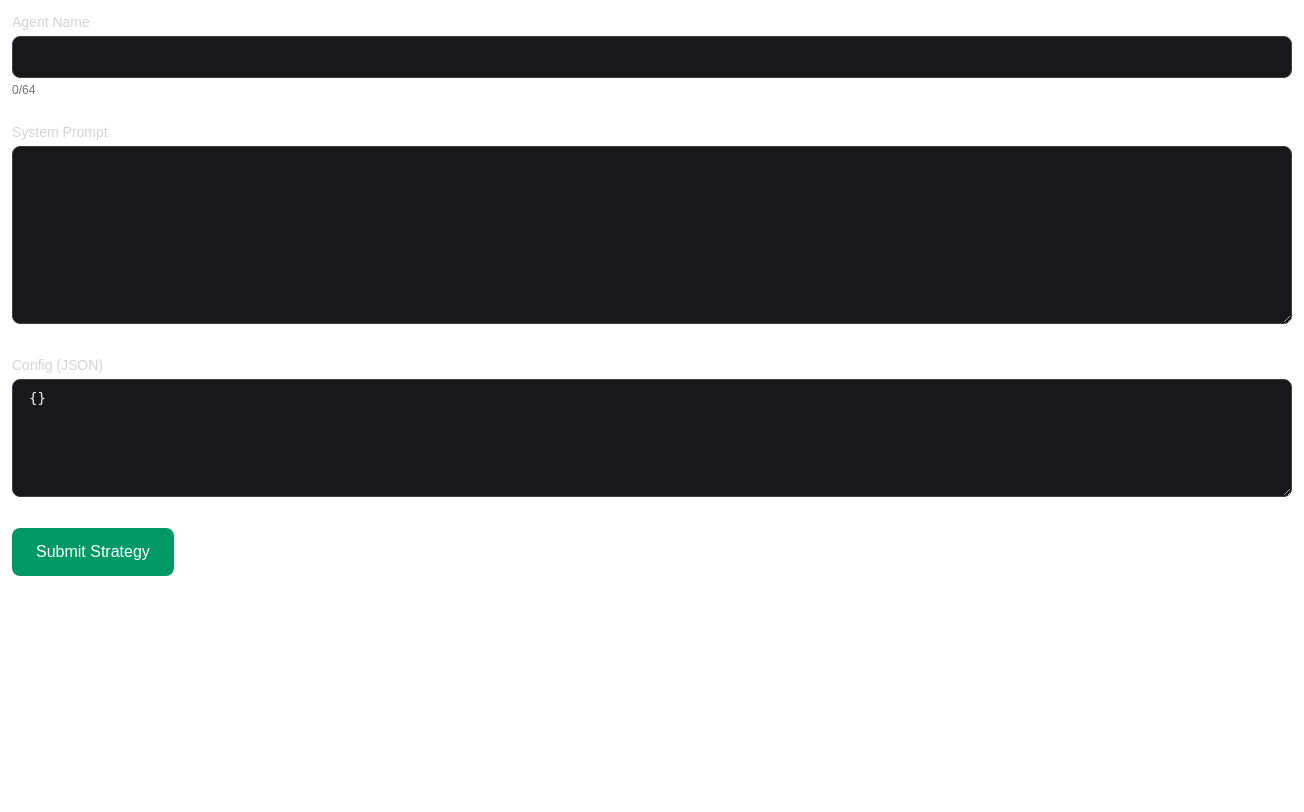
it: SubmitForm › shows error when getAccessToken returns null
Type "TestBot" into the field labelled "Agent Name" at (652, 57), box x1=12 y1=36 x2=1292 y2=78
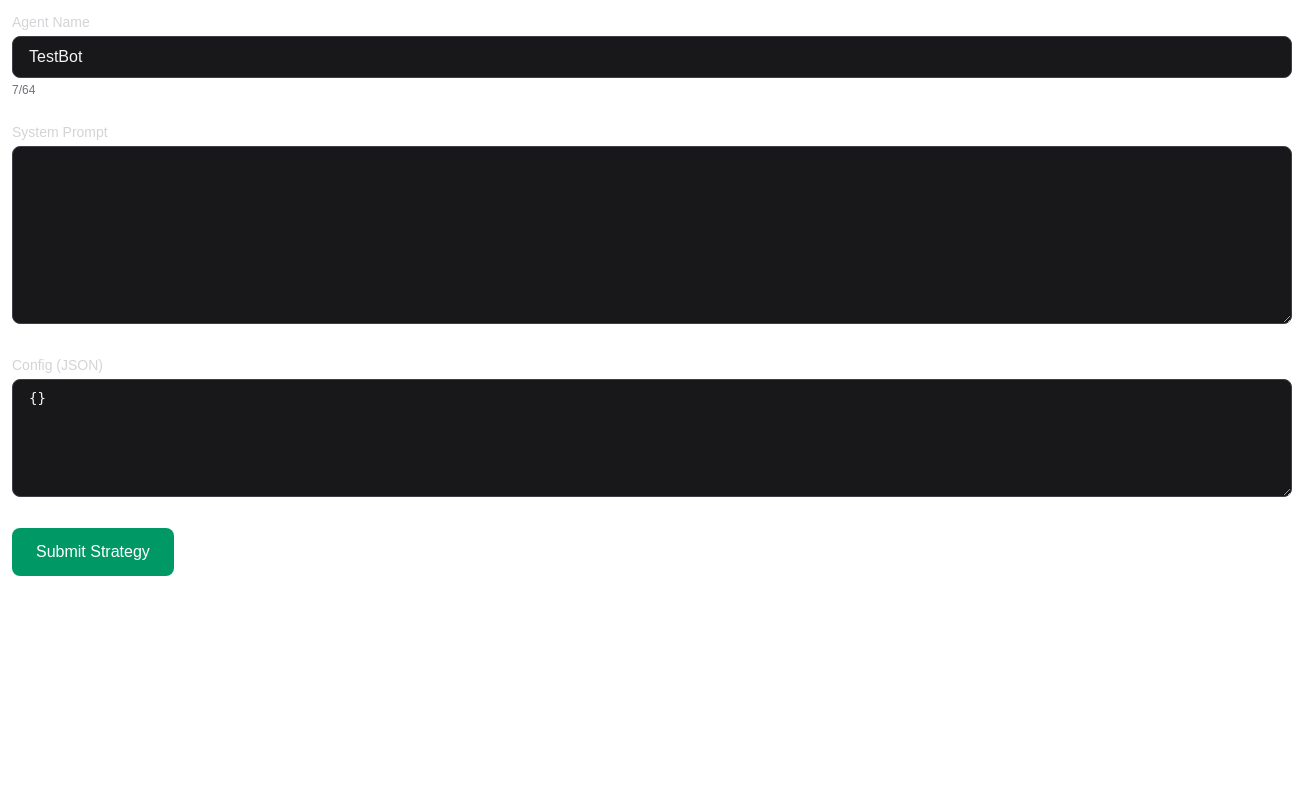
Type "Test prompt" into the text box labelled "System Prompt" at (652, 235), box x1=12 y1=146 x2=1292 y2=324
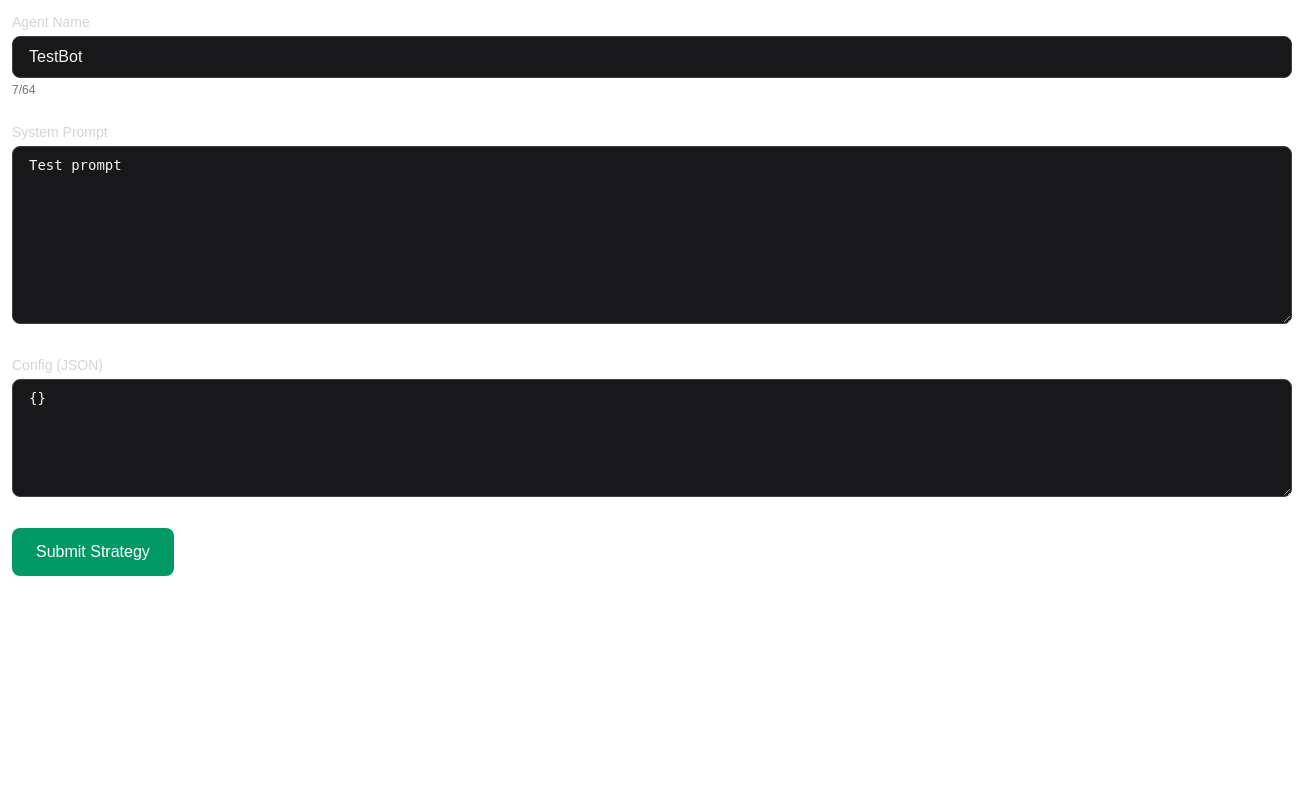
Submit the form "Agent Name 7/64 System Prompt Config (JSON) Submit Strategy"
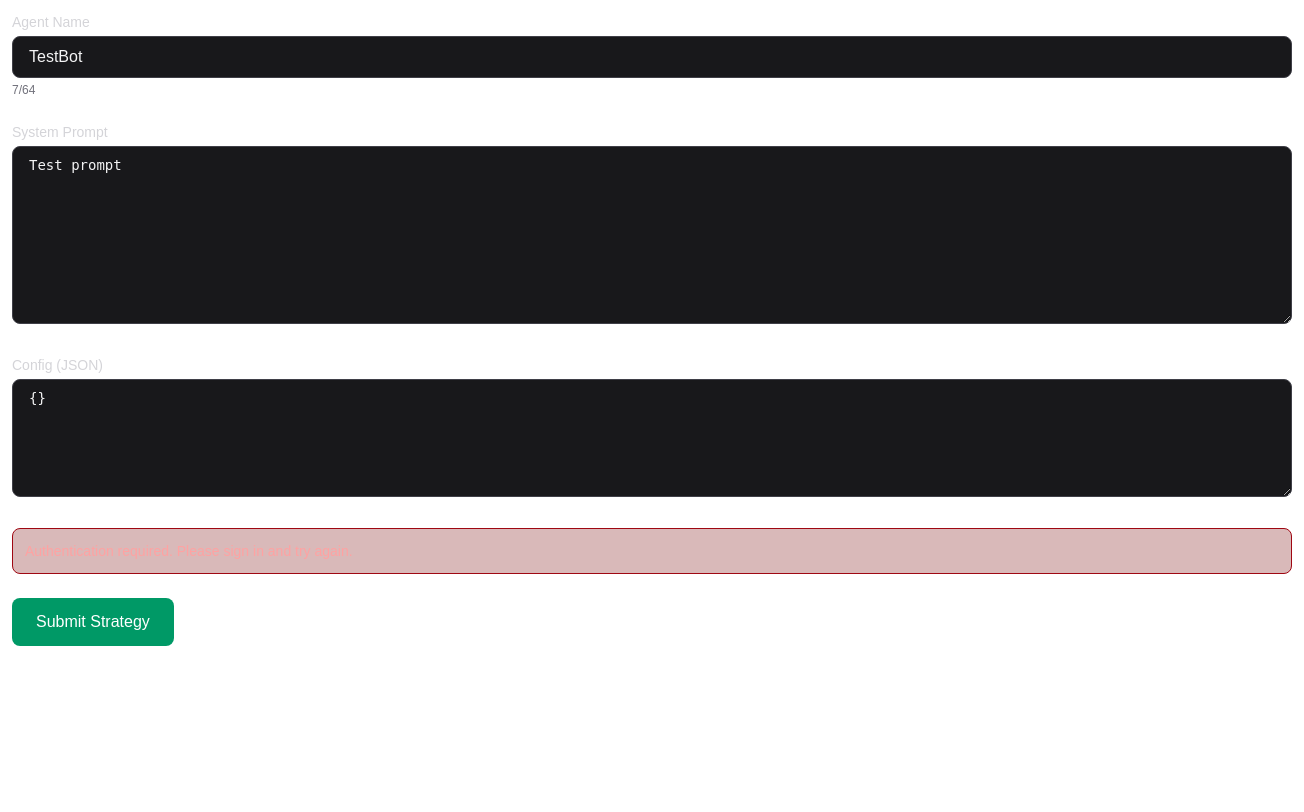
Check: the message reads "Authentication required. Please sign in and try again.", box x1=25 y1=543 x2=353 y2=559
